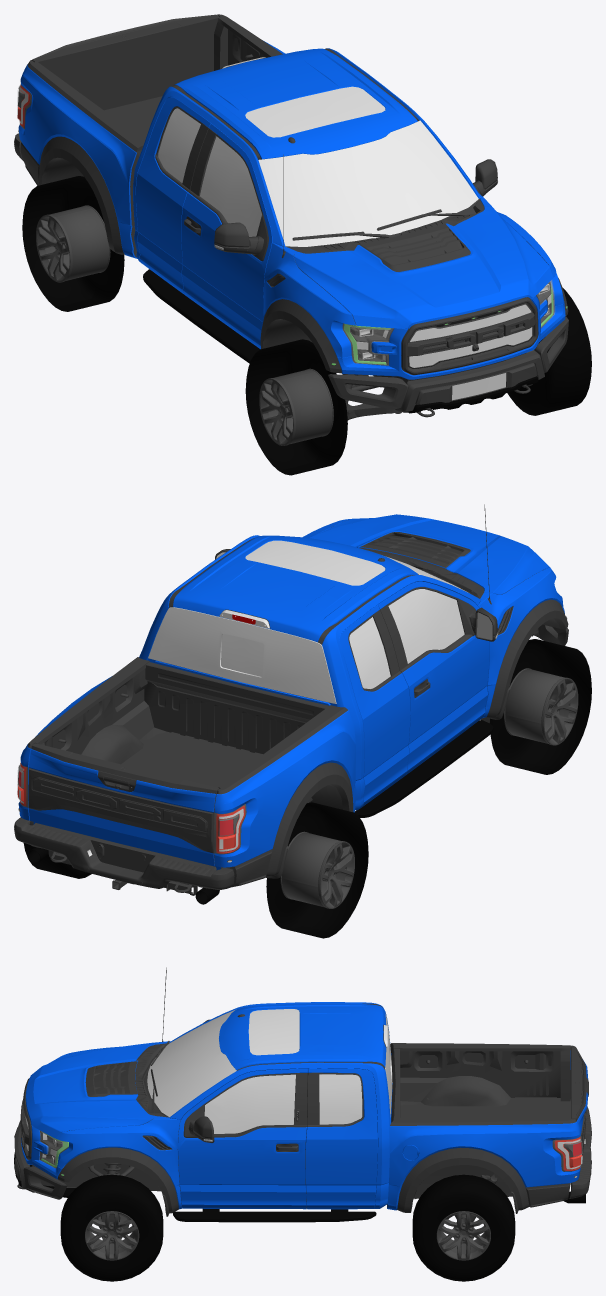
The model's file is raptor.glb.
3 renders of one model, top to bottom at view 1: azimuth 30°, elevation 25°; view 2: azimuth 150°, elevation 25°; view 3: azimuth 270°, elevation 25°, orthographic. The views are drawn at different scales.
Parts seen in each view (by area): view 1: fh_blacktrim-material.013, fh_blacktrim-material.015, fh_glass-material.011, fh_paint-material.002, Wheel.2, Wheel.4, Wheel.1, fh_glass-material.008, fh_blacktrim-material.011, fh_chrome-material.003, fh1_leaf_grille-material.003, fh_glass-material.007 (+5 smaller); view 2: fh_blacktrim-material.013, fh_blacktrim-material.015, fh_glass-material.006, Wheel.4, Wheel.2, fh_paint-material.002, fh_glass-material.008, fh_glass-material.011, fh_chrome-material.003, fh_blacktrim-material.011, fh_glass-material.007, fh_light_glass_red-material.003 (+2 smaller); view 3: fh_blacktrim-material.013, fh_blacktrim-material.015, Wheel.1, Wheel.3, fh_glass-material.011, fh_paint-material.002, fh_glass-material.010, fh_chrome-material.003, fh_glass-material.009, fh_blacktrim-material.011, fh_light_glass_red-material.003, fh_light_glass-material.003 (+3 smaller).
Boxes of the visible parts, box(x1,y1,x2,y2) form: fh_blacktrim-material.013: box(14, 41, 568, 417); fh_blacktrim-material.015: box(18, 14, 568, 384); fh_glass-material.011: box(245, 86, 478, 246); fh_paint-material.002: box(293, 206, 553, 328); Wheel.2: box(245, 339, 347, 475); Wheel.4: box(22, 176, 124, 311); Wheel.1: box(507, 288, 591, 415); fh_glass-material.008: box(200, 136, 261, 236); fh_blacktrim-material.011: box(360, 223, 470, 271); fh_chrome-material.003: box(143, 269, 489, 412); fh1_leaf_grille-material.003: box(409, 304, 532, 367); fh_glass-material.007: box(158, 108, 200, 182); fh_blacktrim-material.013: box(14, 519, 568, 895); fh_blacktrim-material.015: box(18, 504, 568, 887); fh_glass-material.006: box(148, 607, 336, 703); Wheel.4: box(266, 802, 368, 938); Wheel.2: box(489, 639, 591, 774); fh_paint-material.002: box(309, 514, 549, 594); fh_glass-material.008: box(388, 589, 464, 663); fh_glass-material.011: box(245, 540, 467, 592); fh_chrome-material.003: box(27, 720, 493, 904); fh_blacktrim-material.011: box(360, 532, 470, 568); fh_glass-material.007: box(349, 617, 390, 688); fh_light_glass_red-material.003: box(17, 762, 246, 853); fh_blacktrim-material.013: box(14, 1002, 591, 1210); fh_blacktrim-material.015: box(20, 967, 588, 1216); Wheel.1: box(60, 1174, 163, 1281); Wheel.3: box(412, 1174, 515, 1281); fh_glass-material.011: box(147, 1009, 299, 1117); fh_paint-material.002: box(25, 1042, 155, 1138); fh_glass-material.010: box(204, 1074, 295, 1133); fh_chrome-material.003: box(30, 1111, 585, 1222); fh_glass-material.009: box(319, 1074, 362, 1124); fh_blacktrim-material.011: box(85, 1061, 137, 1096); fh_light_glass_red-material.003: box(553, 1136, 582, 1171); fh_light_glass-material.003: box(39, 1131, 576, 1177).
Size of what is drawn, in the model's own units: 2.54 by 2.37 by 5.59.
